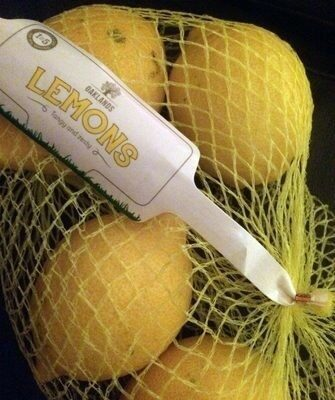Lemons: (17, 20, 318, 380)
